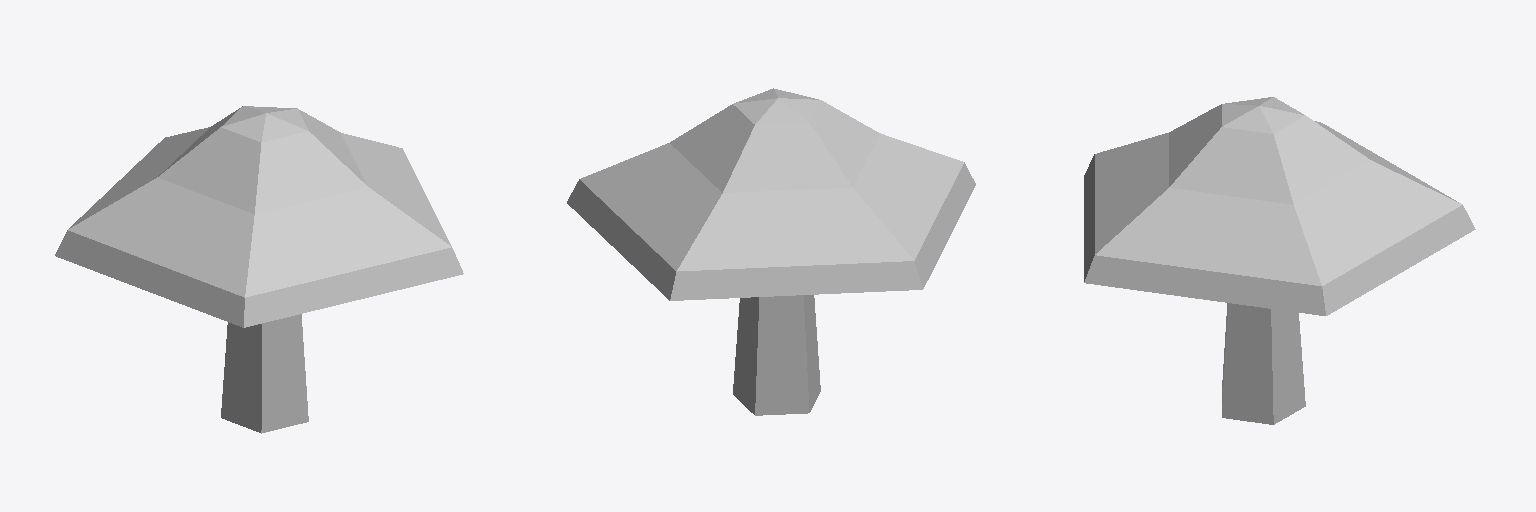
File: Shroom.obj
The picture shows the model from 3 angles: view 1: azimuth 30°, elevation 25°; view 2: azimuth 150°, elevation 25°; view 3: azimuth 270°, elevation 25°; orthographic projection.
Visible parts, largest first — view 1: Shroom_Cylinder; view 2: Shroom_Cylinder; view 3: Shroom_Cylinder.
Part boxes in pixels (bbox=[...]): Shroom_Cylinder: bbox=[55, 106, 463, 433]; Shroom_Cylinder: bbox=[567, 88, 975, 415]; Shroom_Cylinder: bbox=[1084, 97, 1475, 424].
Bounding box in the file's own units: 2.64 × 2.12 × 2.51.